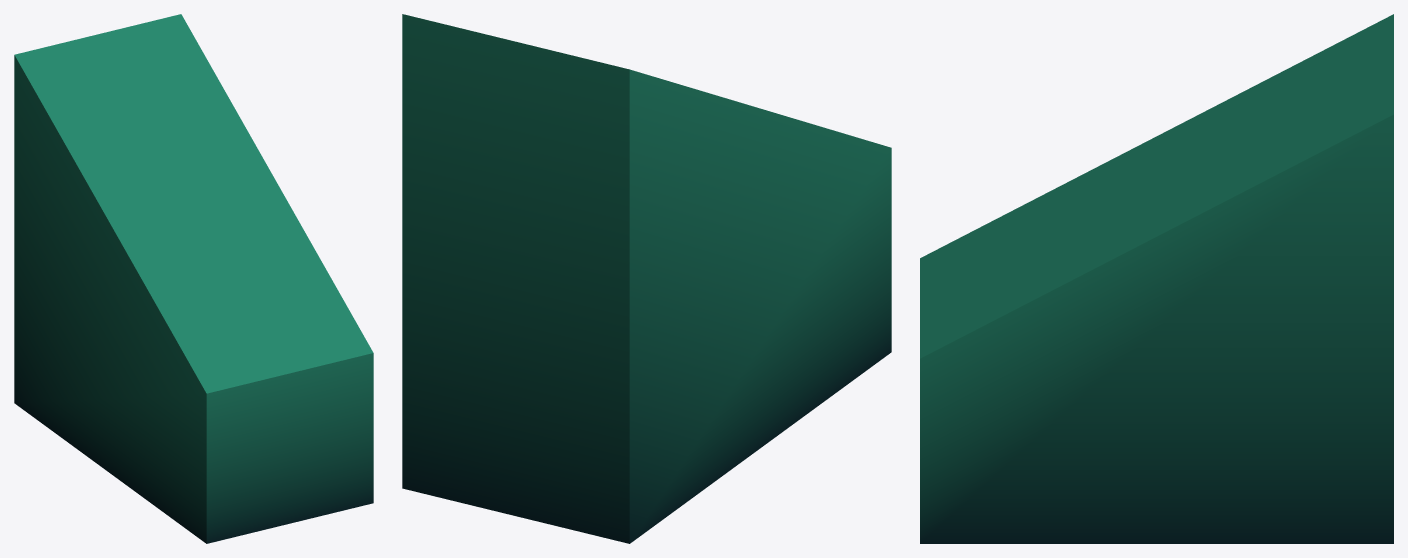
The model's file is Roof Left.fbx.
3 views of the same model, side by side, from view 1: azimuth 30°, elevation 25°; view 2: azimuth 150°, elevation 25°; view 3: azimuth 270°, elevation 25° (orthographic). The views are drawn at different scales.
Visible parts, largest first — view 1: RoofLeft; view 2: RoofLeft; view 3: RoofLeft.
Part boxes in pixels (bbox=[...]): RoofLeft: bbox=[14, 14, 373, 543]; RoofLeft: bbox=[402, 14, 891, 543]; RoofLeft: bbox=[920, 14, 1393, 543].
Size of the model in its own units: 1.41 by 2.81 by 2.81.
